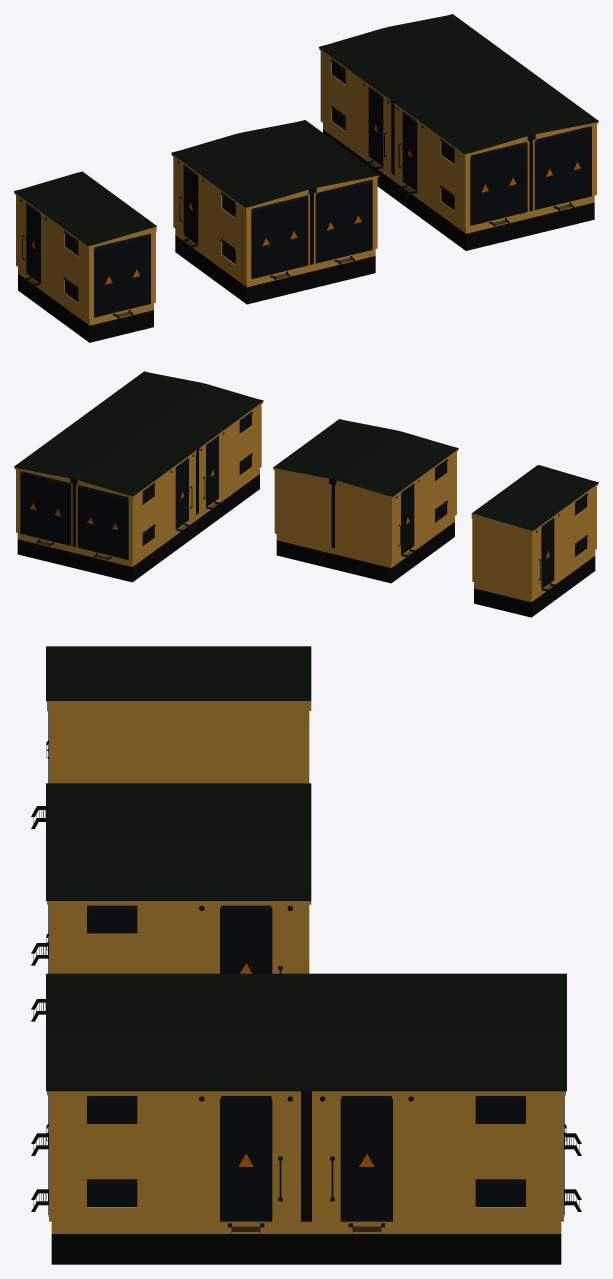
3 renders of one model, top to bottom at view 1: azimuth 30°, elevation 25°; view 2: azimuth 150°, elevation 25°; view 3: azimuth 270°, elevation 25°, orthographic. The views are drawn at different scales.
Visible parts, largest first — view 1: TP_big, TP_medium, TP_small; view 2: TP_big, TP_medium, TP_small; view 3: TP_big, TP_medium, TP_small.
Boxes of the visible parts, <box> form: TP_big: <box>318,14,598,250</box>; TP_medium: <box>171,120,379,304</box>; TP_small: <box>14,171,156,342</box>; TP_big: <box>14,371,263,582</box>; TP_medium: <box>273,419,458,583</box>; TP_small: <box>471,465,598,617</box>; TP_big: <box>31,973,581,1264</box>; TP_medium: <box>31,783,311,1021</box>; TP_small: <box>31,646,311,828</box>.
Bounding box in the file's own units: 19252 × 3575 × 9816.
